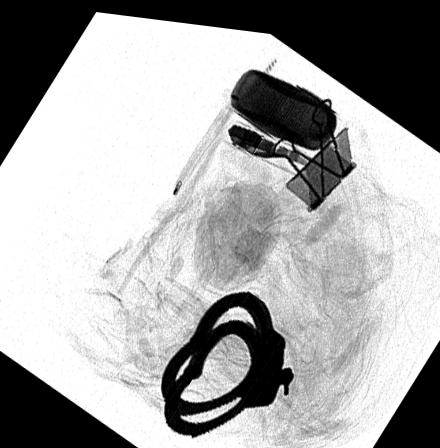HandCuffs: (158, 279, 295, 433)
